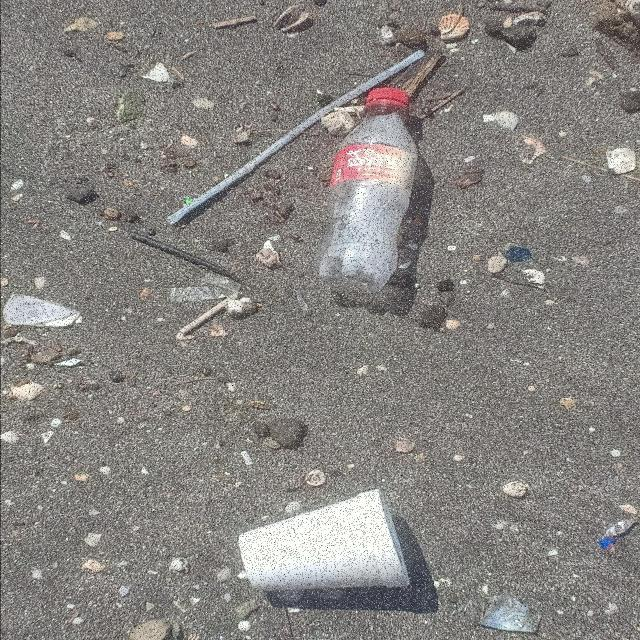plastic_waste: (167, 51, 426, 225), (314, 88, 418, 294)
styrofoam_waste: (238, 491, 412, 597)
